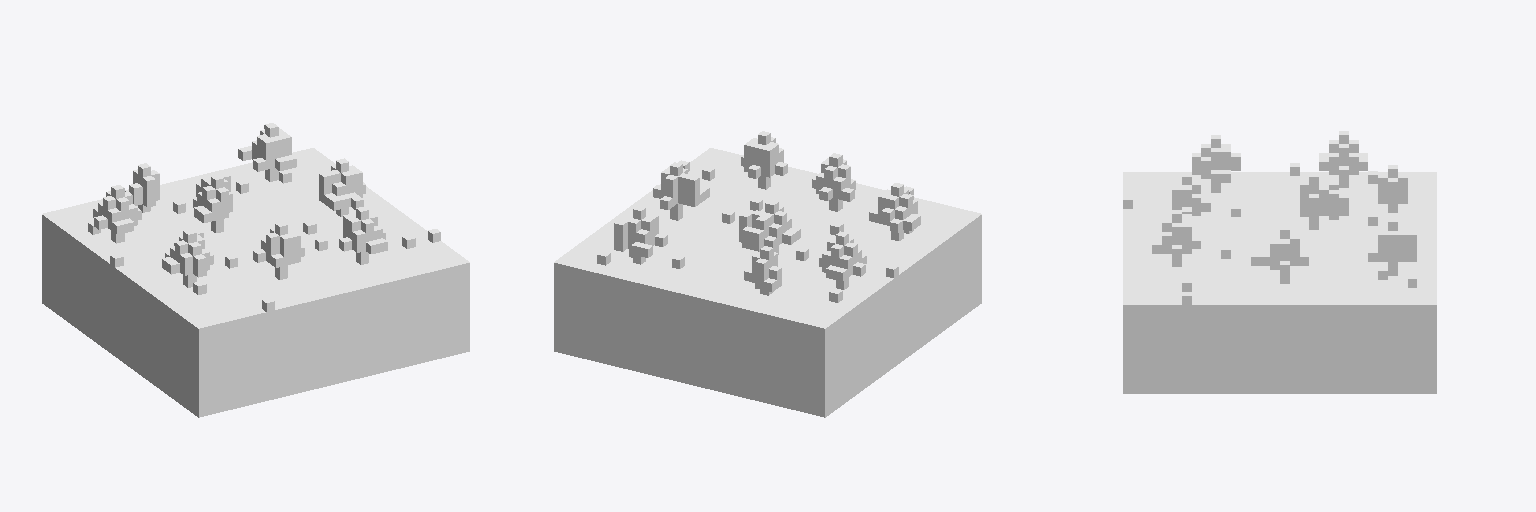
The model's file is Overworld_Land_02.obj.
The picture shows the model from 3 angles: view 1: azimuth 30°, elevation 25°; view 2: azimuth 150°, elevation 25°; view 3: azimuth 270°, elevation 25°; orthographic projection.
Visible parts, largest first — view 1: object 1; view 2: object 1; view 3: object 1.
Part boxes in pixels (left/top/right/bottom): object 1: left=42, top=123, right=469, bottom=417; object 1: left=554, top=131, right=981, bottom=417; object 1: left=1123, top=131, right=1436, bottom=393.
Size of the model in its own units: 3.2 by 1.6 by 3.2.